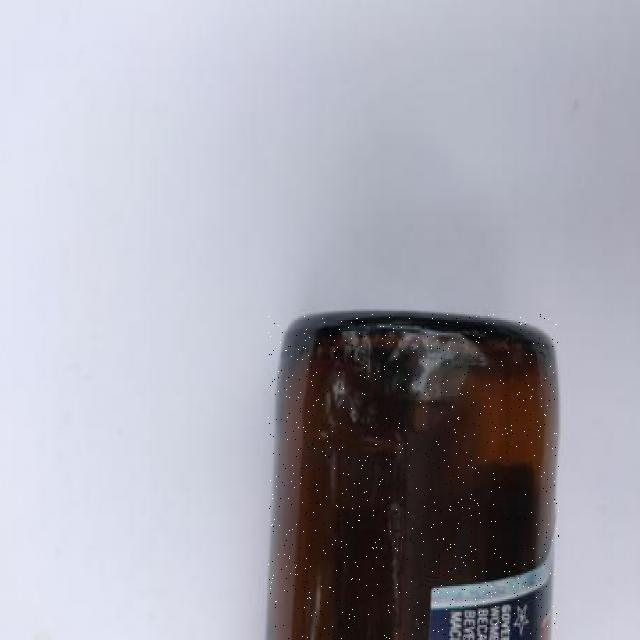glass: (269, 315, 559, 640)
